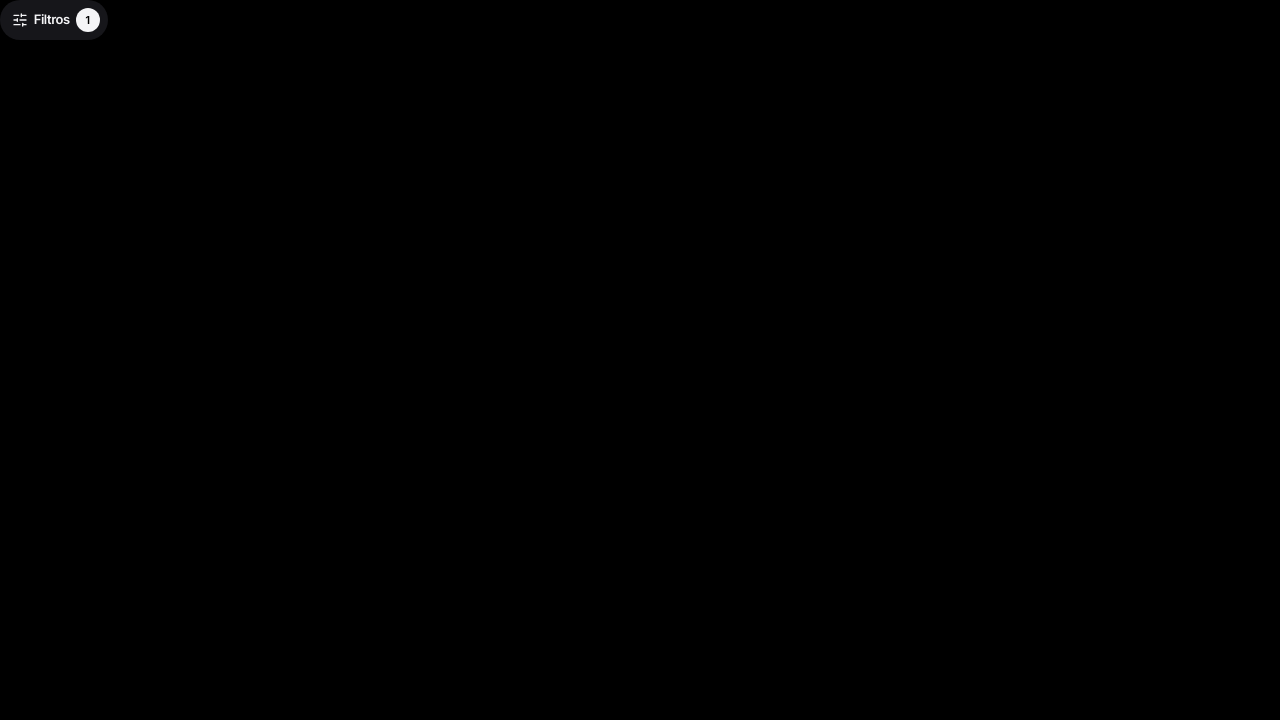
it: AnalyticsFilter › resets que options when the que select has no selected tipo
Click the button "Filtros 1" at (54, 20), box [0,0,108,40]
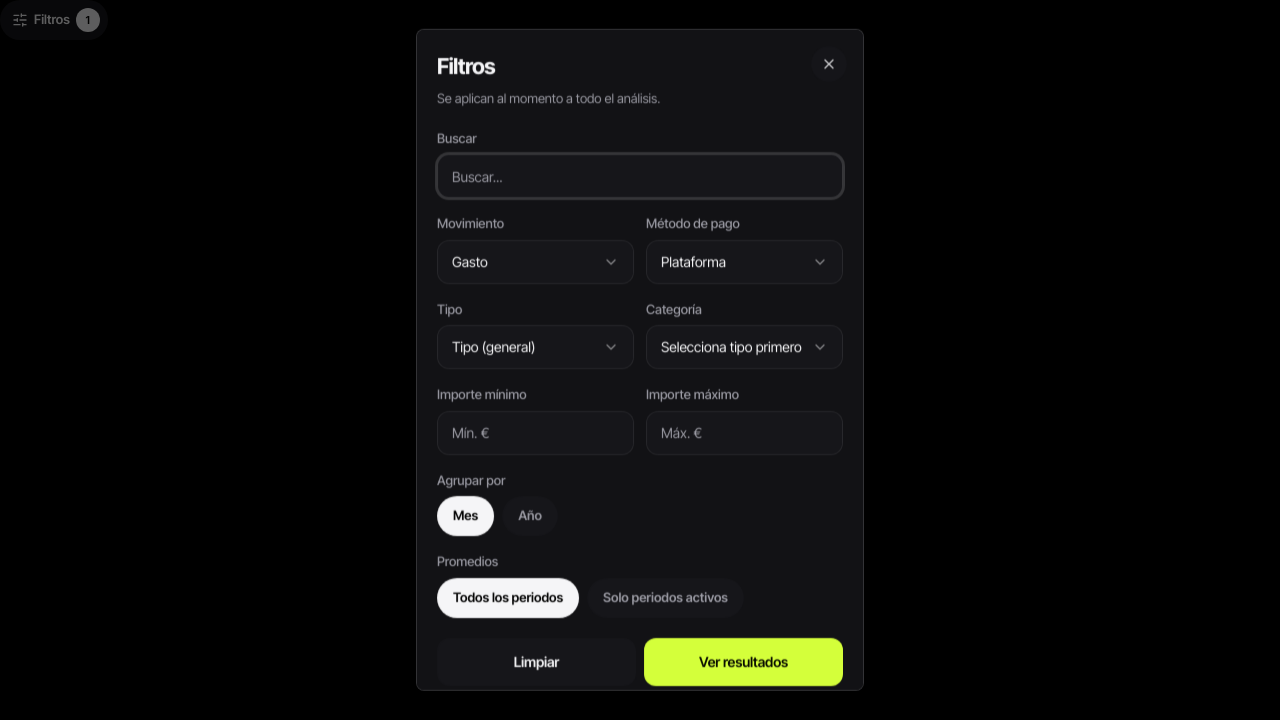
Click the dropdown "Selecciona tipo primero" at (744, 347), box [646,325,843,369]
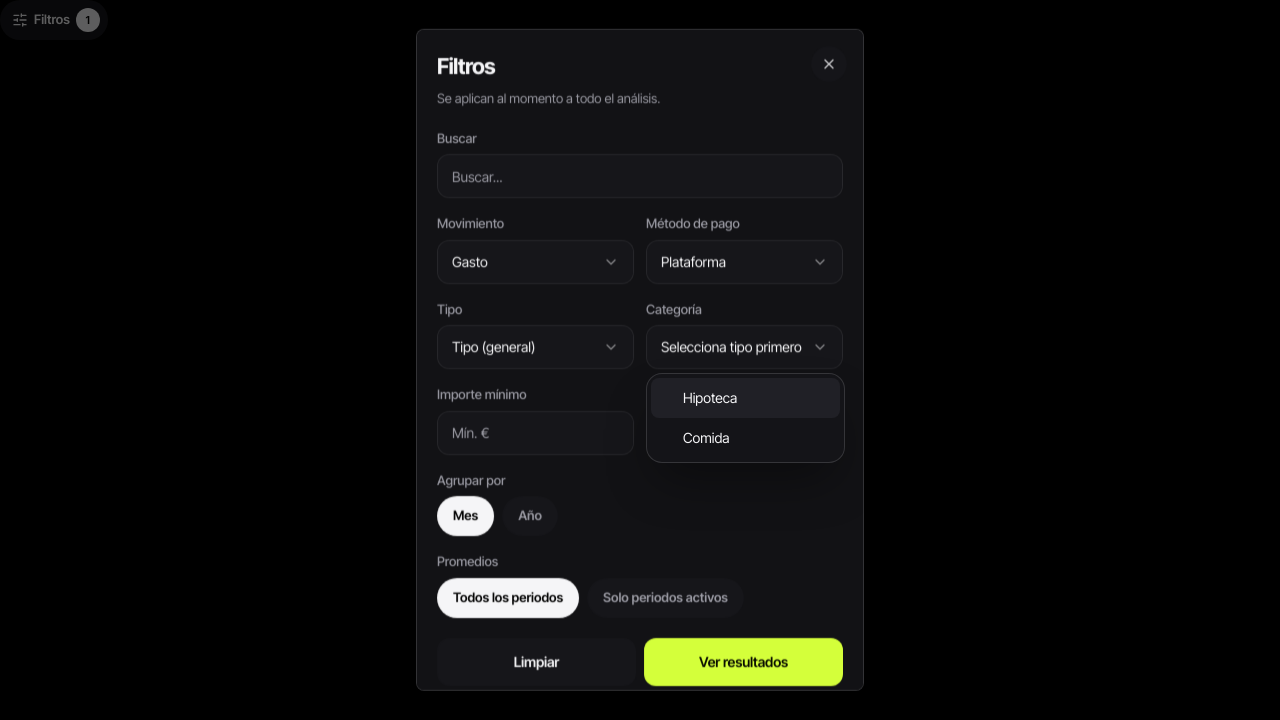
Expected: the option "Hipoteca" is shown, [651,378,840,418]
